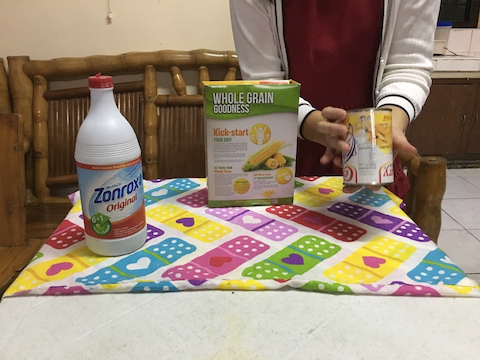bottle: (73, 75, 151, 258)
box: (201, 77, 303, 210)
can: (340, 103, 397, 188)
grab: (316, 100, 357, 157)
